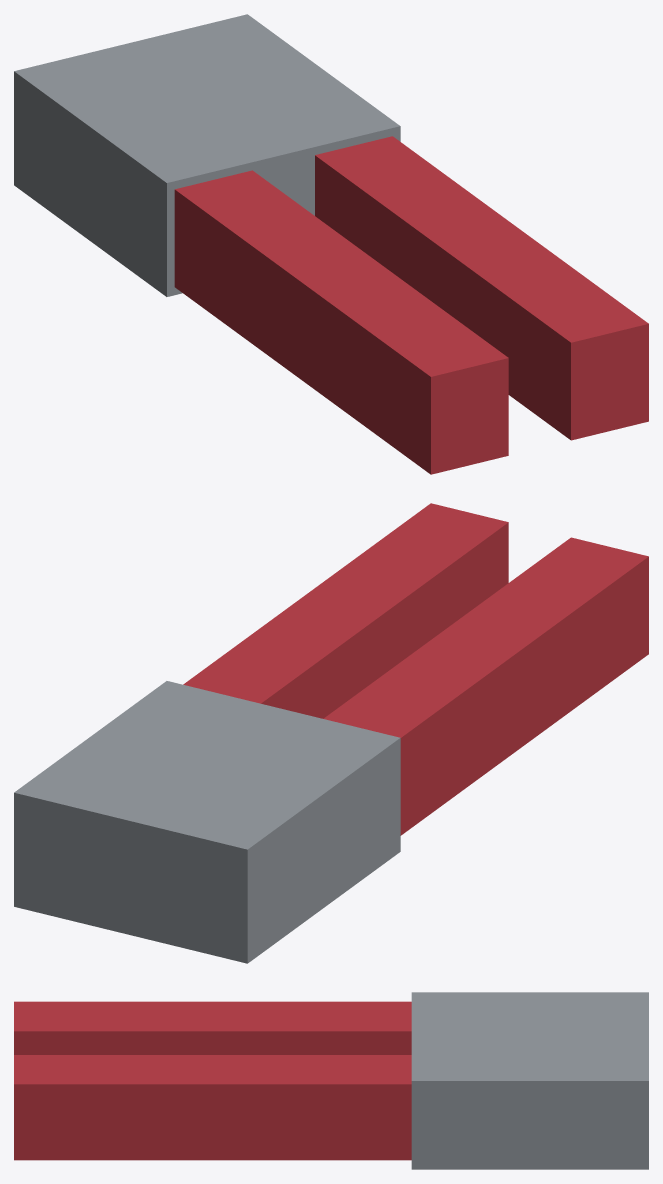
File: herr_crimpeadora.obj
3 views of the same model, one above another, from view 1: azimuth 30°, elevation 25°; view 2: azimuth 150°, elevation 25°; view 3: azimuth 270°, elevation 25° (orthographic). The views are drawn at different scales.
Parts seen in each view (by area): view 1: herr_crimpeadora.003, herr_crimpeadora.001, herr_crimpeadora.002; view 2: herr_crimpeadora.003, herr_crimpeadora.001, herr_crimpeadora.002; view 3: herr_crimpeadora.003, herr_crimpeadora.002, herr_crimpeadora.001.
Part boxes in pixels (x1,y1,x2,y2): herr_crimpeadora.003: (14,14,400,296); herr_crimpeadora.001: (174,170,508,474); herr_crimpeadora.002: (315,136,648,440); herr_crimpeadora.003: (14,681,400,963); herr_crimpeadora.001: (323,537,648,835); herr_crimpeadora.002: (183,503,508,718); herr_crimpeadora.003: (411,992,648,1169); herr_crimpeadora.002: (14,1055,411,1160); herr_crimpeadora.001: (14,1001,411,1054).
Size of the model in its own units: 0.03 by 0.014 by 0.091.
